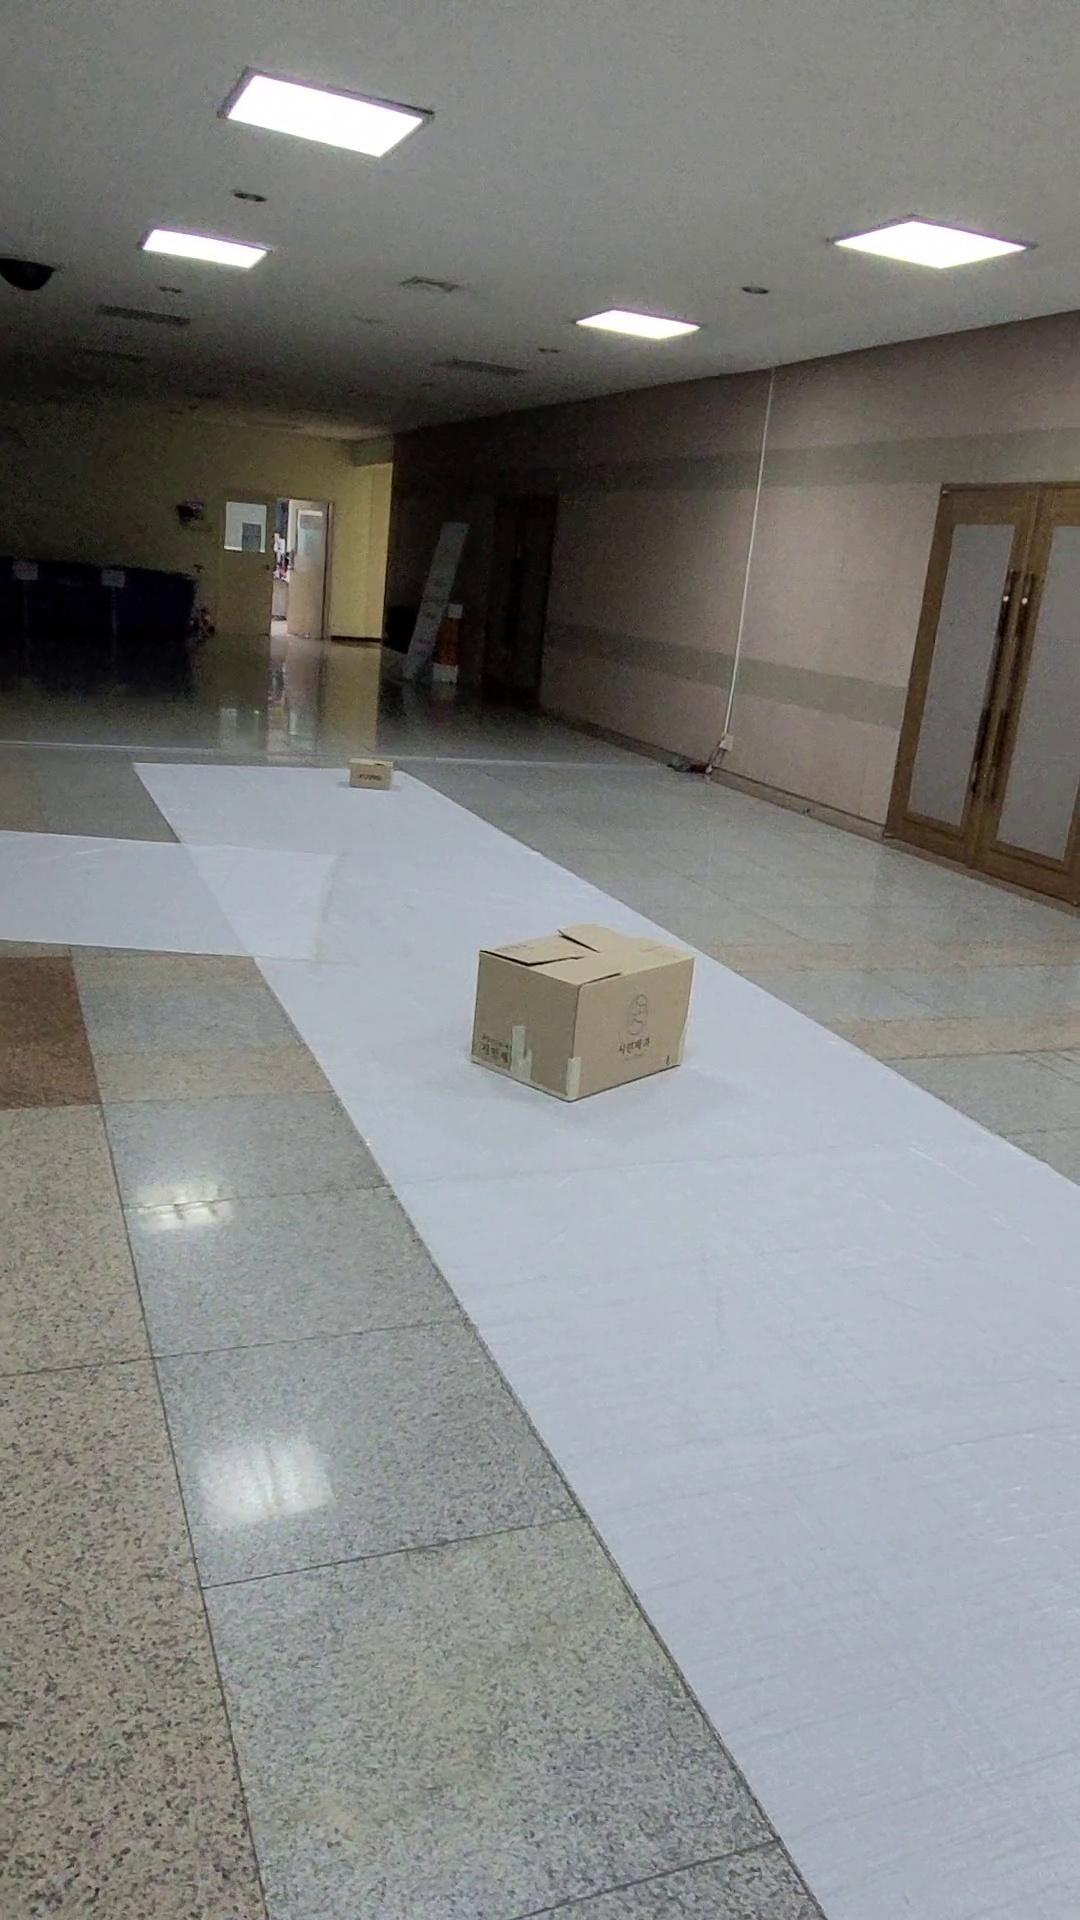Box: (446, 895, 709, 1120), (318, 740, 415, 810)
